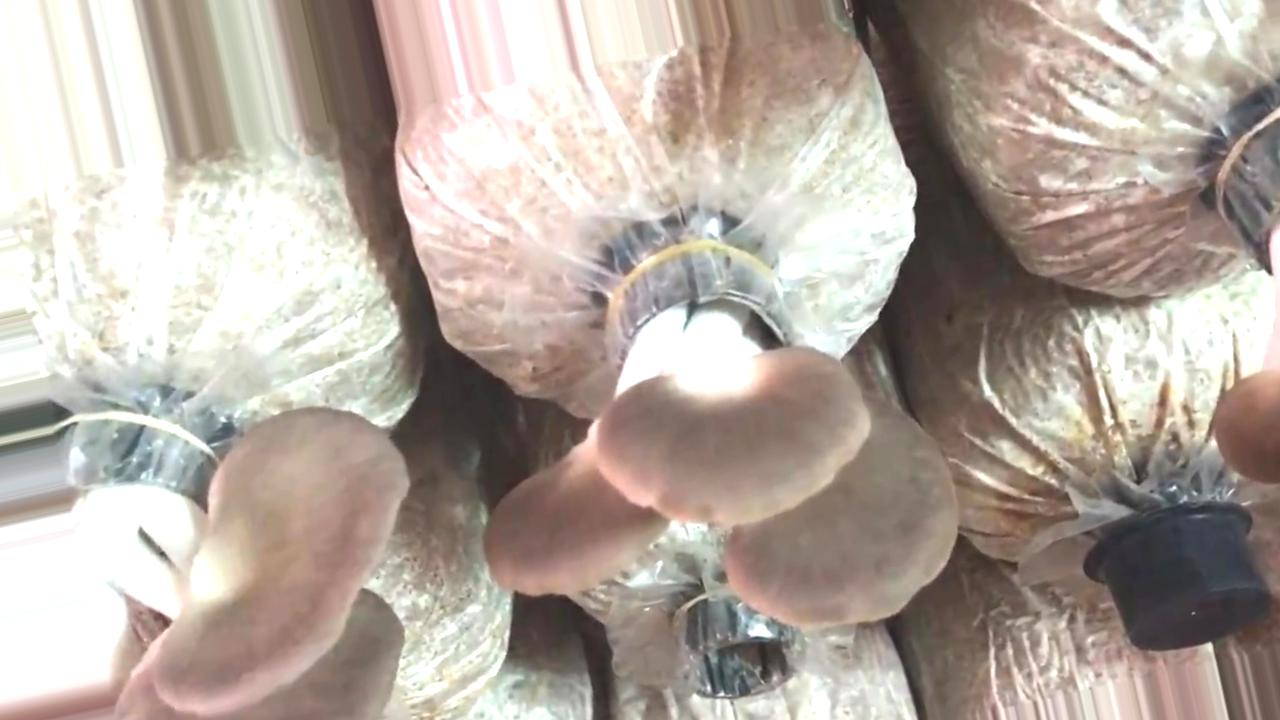nam: (493, 258, 956, 627), (1, 409, 408, 717), (1217, 88, 1280, 487)
